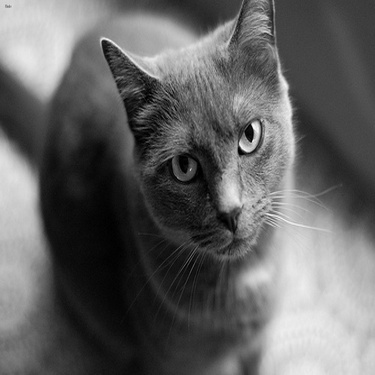cat: (5, 2, 298, 368)
